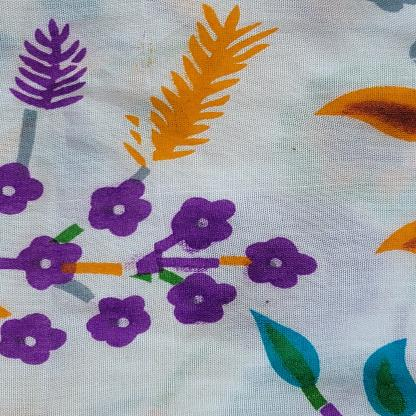spot: (133, 33, 164, 78), (259, 299, 280, 310), (289, 143, 305, 154)
